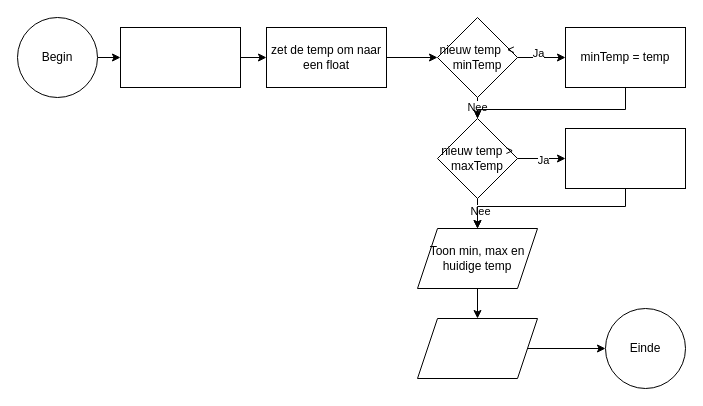
Some shapes in this 703 by 406 pixel diagram are drawn without their labels. The shapes that lost their labels are listed below. From the top down, each one's box as (x1, y1, x2, y2) in pixels, then its label:
(120, 26, 240, 88): Splits de topic in stukjes
(564, 128, 686, 188): maxTemp = temp
(416, 318, 538, 378): Toon of min/max gewijzigd is
